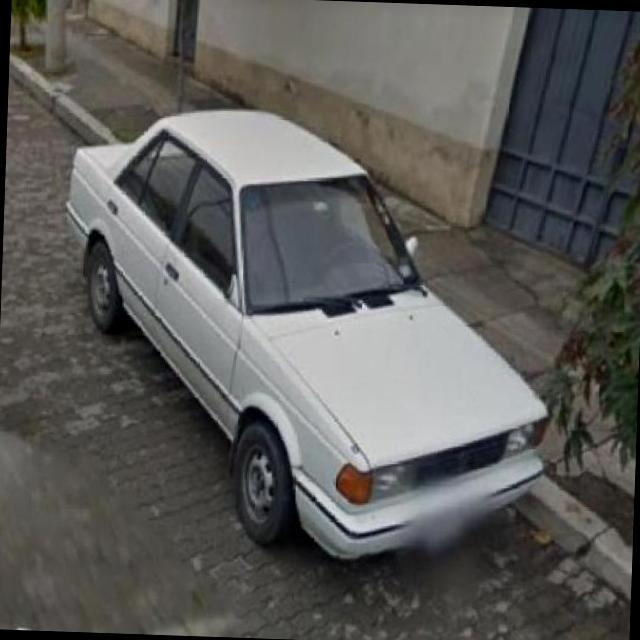car: (66, 109, 547, 558)
